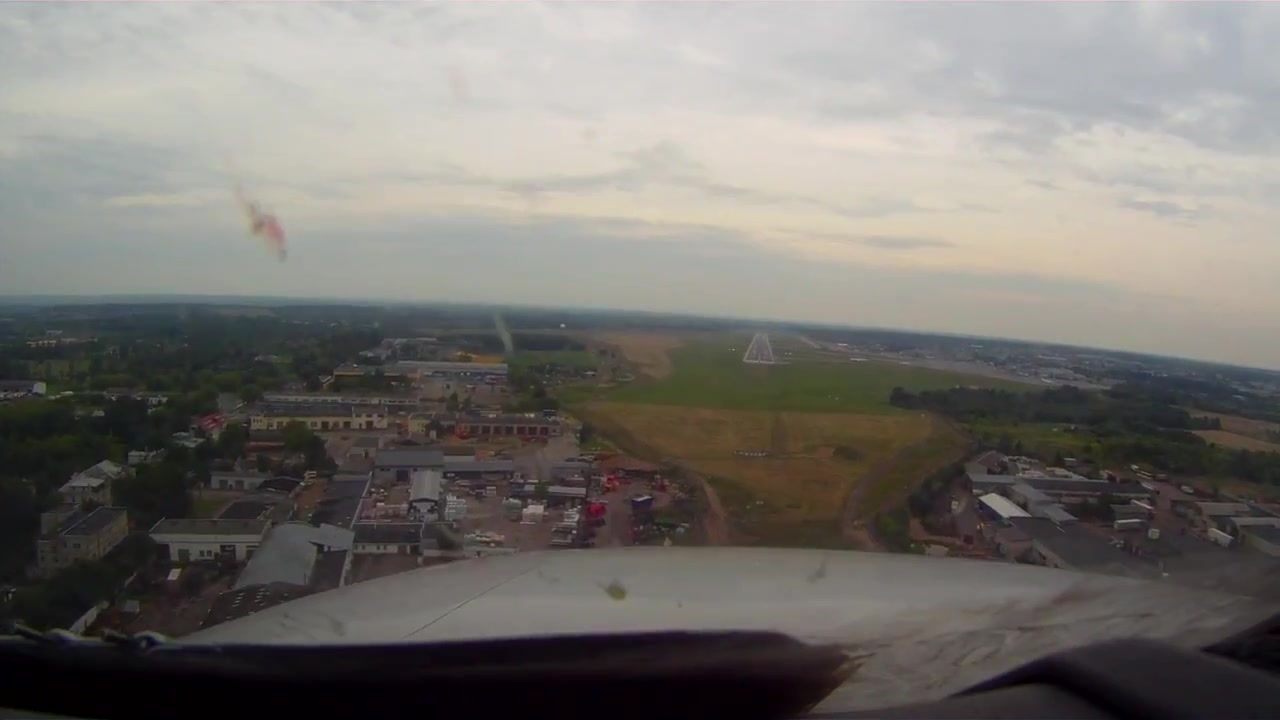runway: (742, 334, 778, 366)
